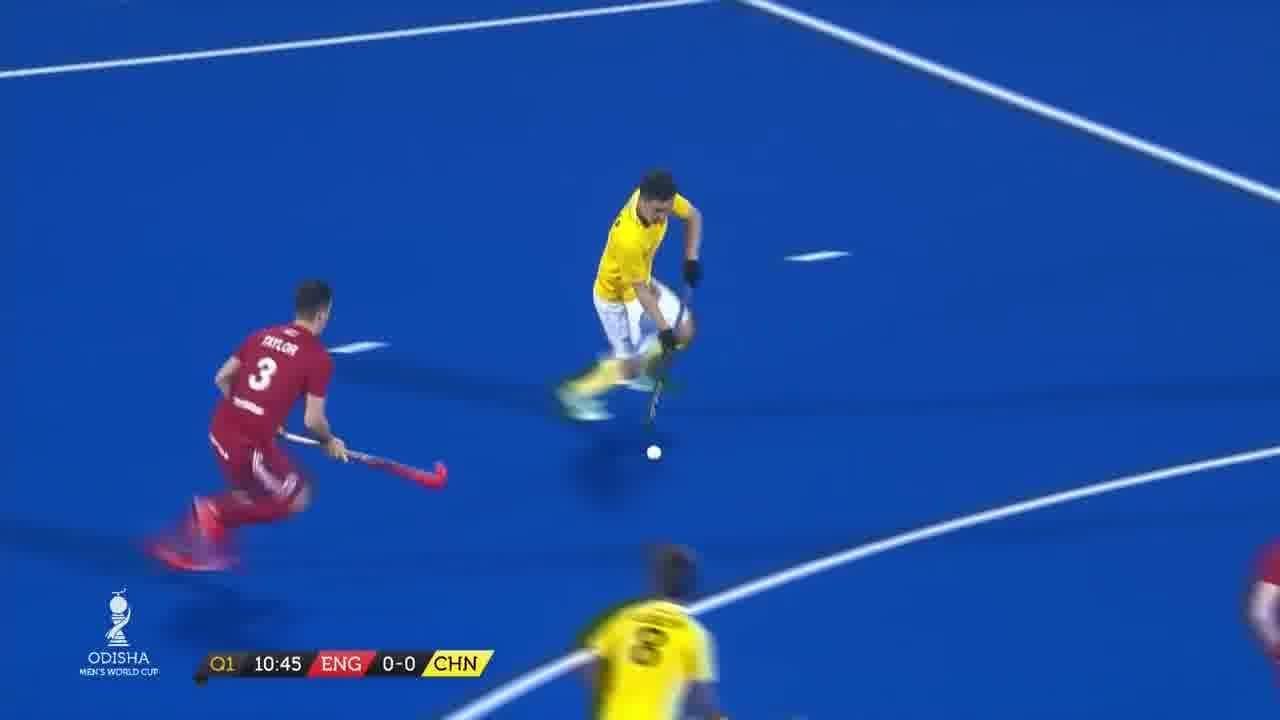ball: (644, 430, 666, 472)
